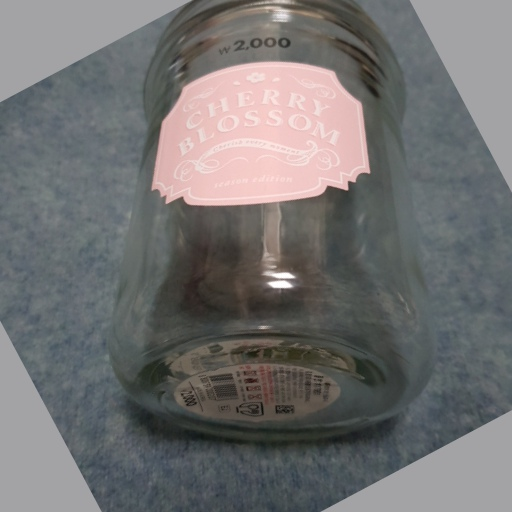Glass_5: (112, 3, 435, 434)
